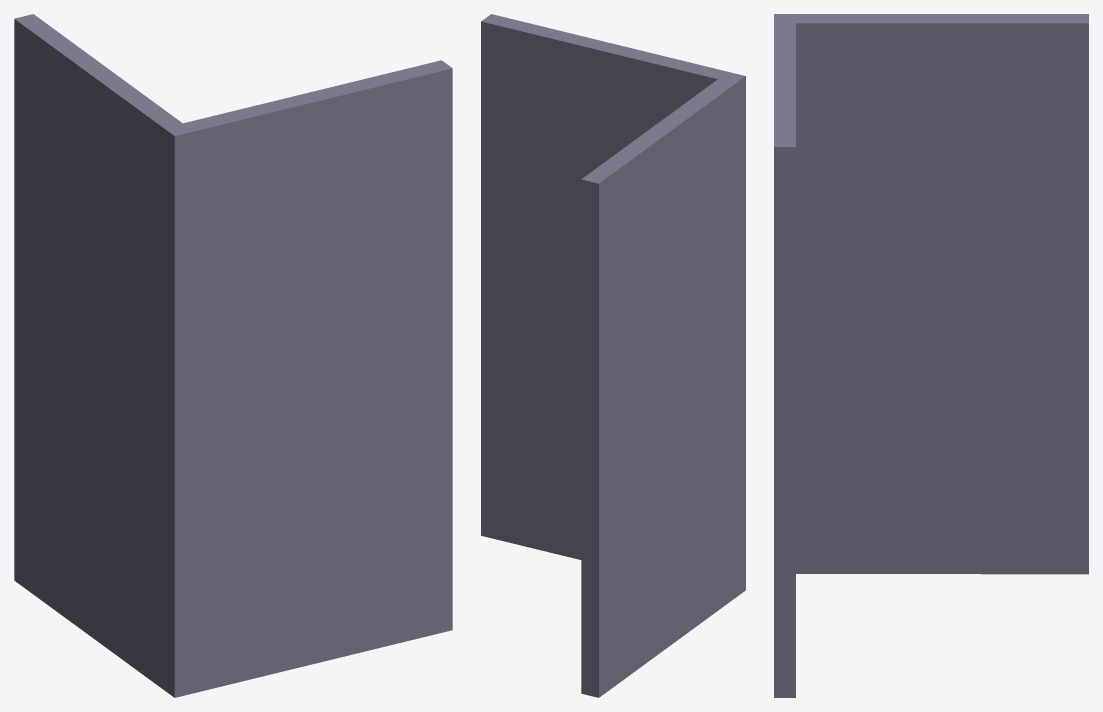
File: wall_corner.fbx
3 renders of one model, left to right at view 1: azimuth 30°, elevation 25°; view 2: azimuth 150°, elevation 25°; view 3: azimuth 270°, elevation 25°, orthographic. The views are drawn at different scales.
Parts seen in each view (by area): view 1: Cube; view 2: Cube; view 3: Cube.
Boxes of the visible parts, box(x1,y1,x2,y2) form: Cube: box(14, 14, 452, 697); Cube: box(481, 14, 745, 697); Cube: box(774, 14, 1088, 697).
Bounding box in the file's own units: 311 × 600 × 311.
